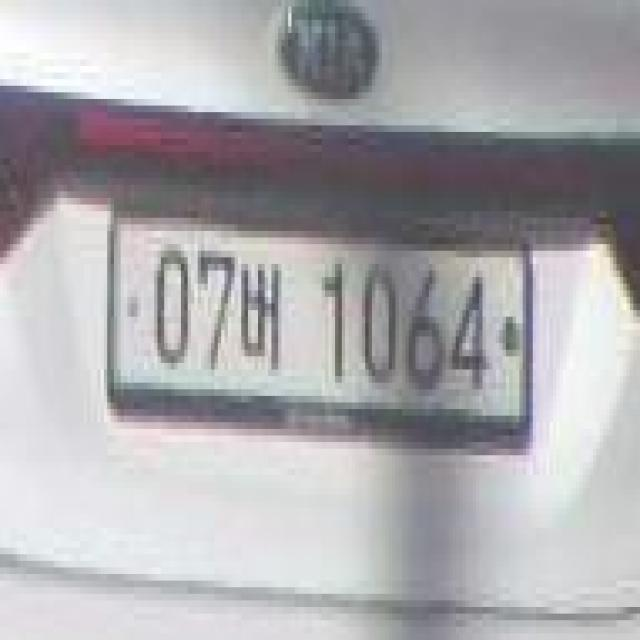illegal_plate: (102, 201, 538, 478)
